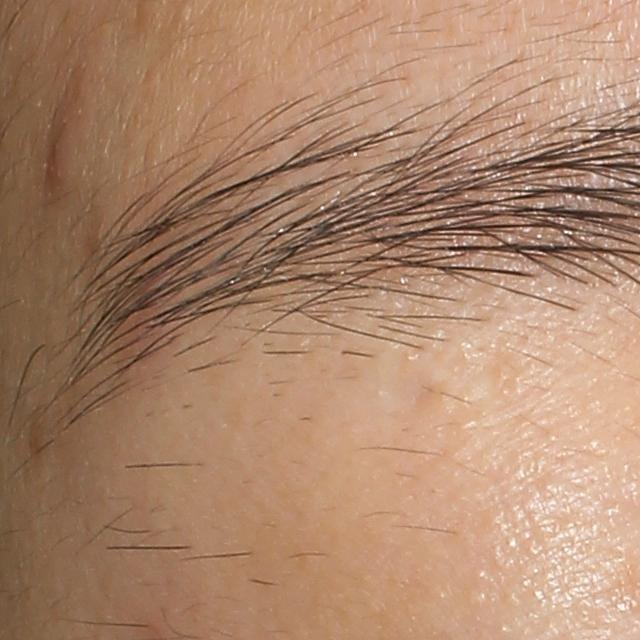comedo: (179, 0, 192, 20)
